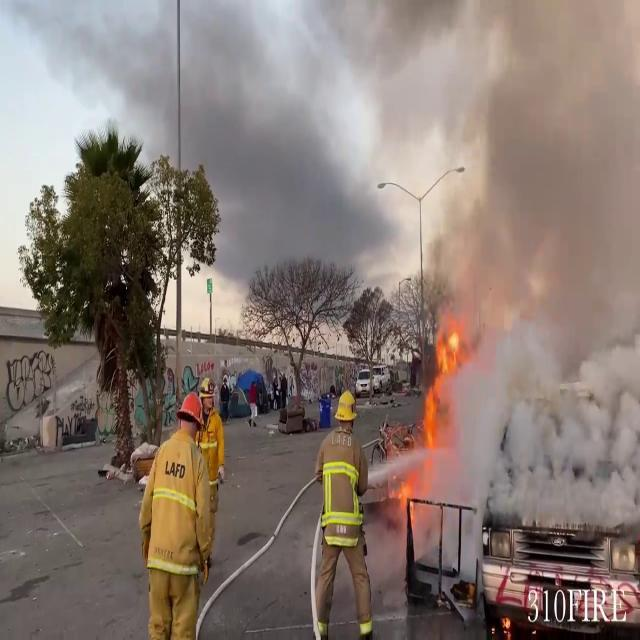Fire: (420, 308, 462, 443)
Smoke: (395, 0, 640, 539)
